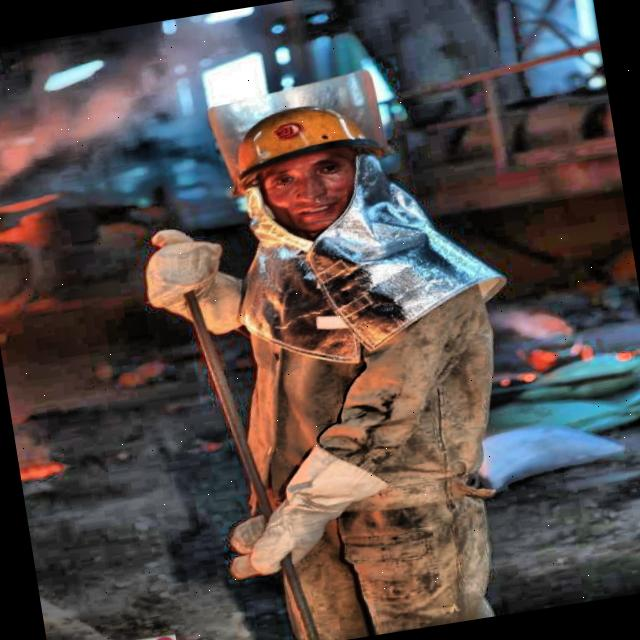helmet: (202, 68, 396, 251)
